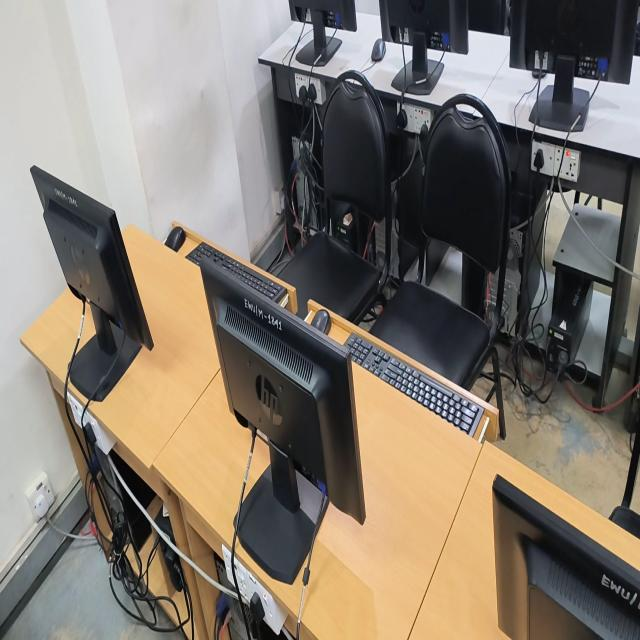Chair: (278, 71, 392, 324), (370, 281, 505, 439), (420, 94, 509, 299)
Cpu: (501, 170, 548, 332)
Keyboard: (345, 332, 484, 437), (186, 242, 287, 302)
Monitor: (197, 253, 364, 584), (31, 166, 153, 401), (493, 475, 640, 639), (510, 0, 640, 132), (379, 0, 468, 95), (289, 0, 356, 66)
Mouse: (164, 226, 186, 252), (311, 309, 331, 334), (371, 39, 385, 62)
